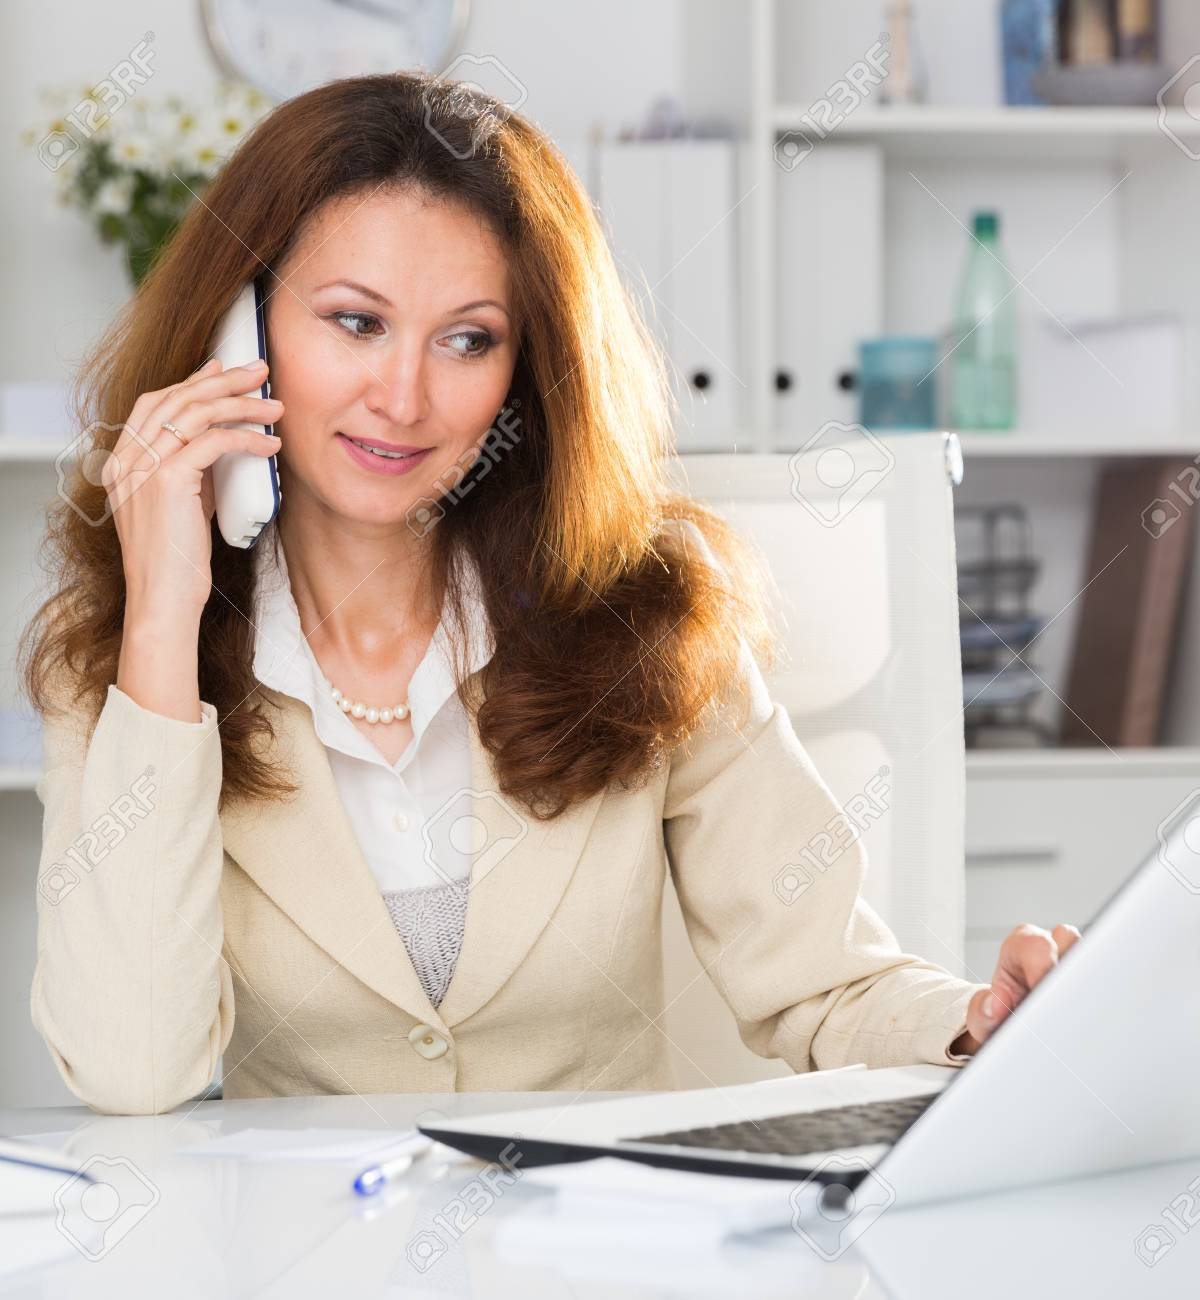phone: (162, 279, 300, 545)
talk: (97, 248, 517, 650)
